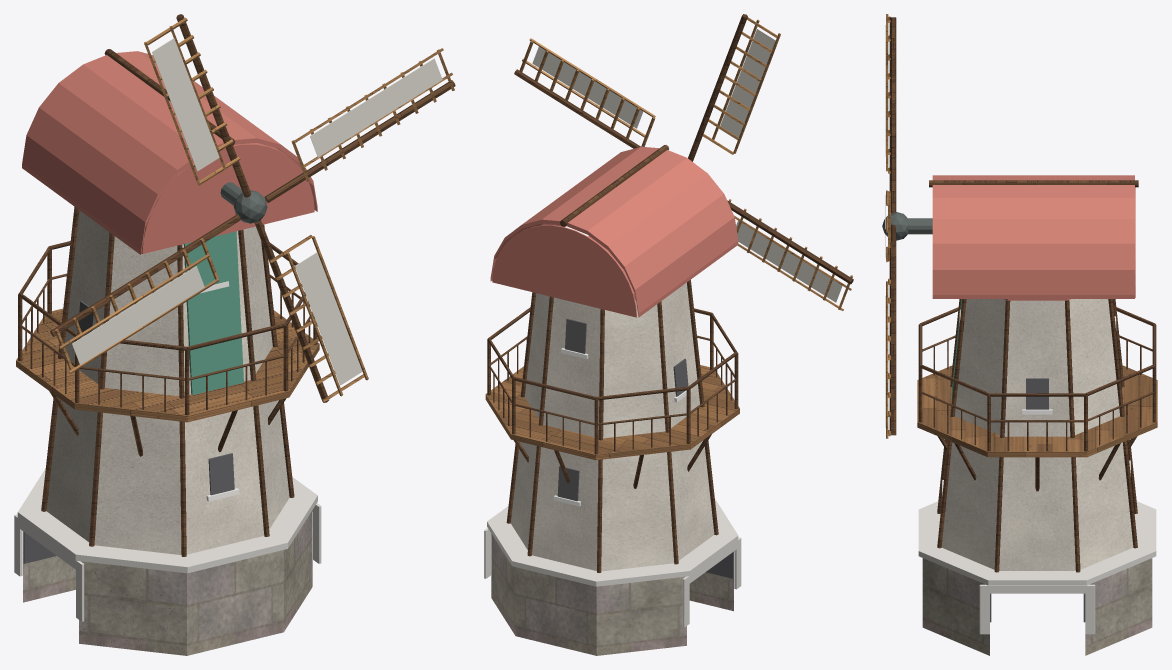
Rendered from windmill.glb.
3 renders of one model, left to right at view 1: azimuth 30°, elevation 25°; view 2: azimuth 150°, elevation 25°; view 3: azimuth 270°, elevation 25°, orthographic. The views are drawn at different scales.
Parts seen in each view (by area): view 1: windmill_mill_w, windmill_mill_r, windmill_stone, windmill_dkwood, windmill_sail, windmill_deck, windmill_coping, windmill_wood, windmill_door, windmill_dark, windmill_iron; view 2: windmill_mill_w, windmill_mill_r, windmill_dkwood, windmill_stone, windmill_deck, windmill_coping, windmill_sail, windmill_wood, windmill_dark; view 3: windmill_mill_w, windmill_mill_r, windmill_dkwood, windmill_stone, windmill_deck, windmill_coping, windmill_wood, windmill_iron, windmill_dark.
Boxes of the visible parts, left/top/right/bottom form: windmill_mill_w: left=46, top=210, right=289, bottom=554; windmill_mill_r: left=22, top=51, right=317, bottom=254; windmill_stone: left=23, top=510, right=312, bottom=655; windmill_dkwood: left=18, top=14, right=455, bottom=556; windmill_sail: left=72, top=38, right=442, bottom=385; windmill_deck: left=16, top=308, right=319, bottom=422; windmill_coping: left=14, top=468, right=321, bottom=621; windmill_wood: left=55, top=17, right=454, bottom=402; windmill_door: left=183, top=231, right=243, bottom=394; windmill_dark: left=23, top=301, right=234, bottom=563; windmill_iron: left=220, top=182, right=267, bottom=223; windmill_mill_w: left=510, top=282, right=714, bottom=571; windmill_mill_r: left=490, top=146, right=738, bottom=317; windmill_dkwood: left=487, top=14, right=853, bottom=572; windmill_stone: left=491, top=534, right=733, bottom=655; windmill_deck: left=485, top=365, right=739, bottom=460; windmill_coping: left=484, top=499, right=741, bottom=627; windmill_sail: left=532, top=29, right=842, bottom=302; windmill_wood: left=519, top=17, right=852, bottom=310; windmill_dark: left=557, top=318, right=733, bottom=578; windmill_mill_w: left=941, top=299, right=1133, bottom=570; windmill_mill_r: left=932, top=175, right=1135, bottom=300; windmill_dkwood: left=889, top=17, right=1156, bottom=572; windmill_stone: left=922, top=558, right=1152, bottom=655; windmill_deck: left=917, top=365, right=1157, bottom=457; windmill_coping: left=918, top=501, right=1156, bottom=634; windmill_wood: left=886, top=14, right=890, bottom=438; windmill_iron: left=882, top=212, right=932, bottom=240; windmill_dark: left=943, top=378, right=1085, bottom=622.
Bounding box in the file's own units: 5.48 × 8.56 × 3.81.
12 materials, 5 textured.
